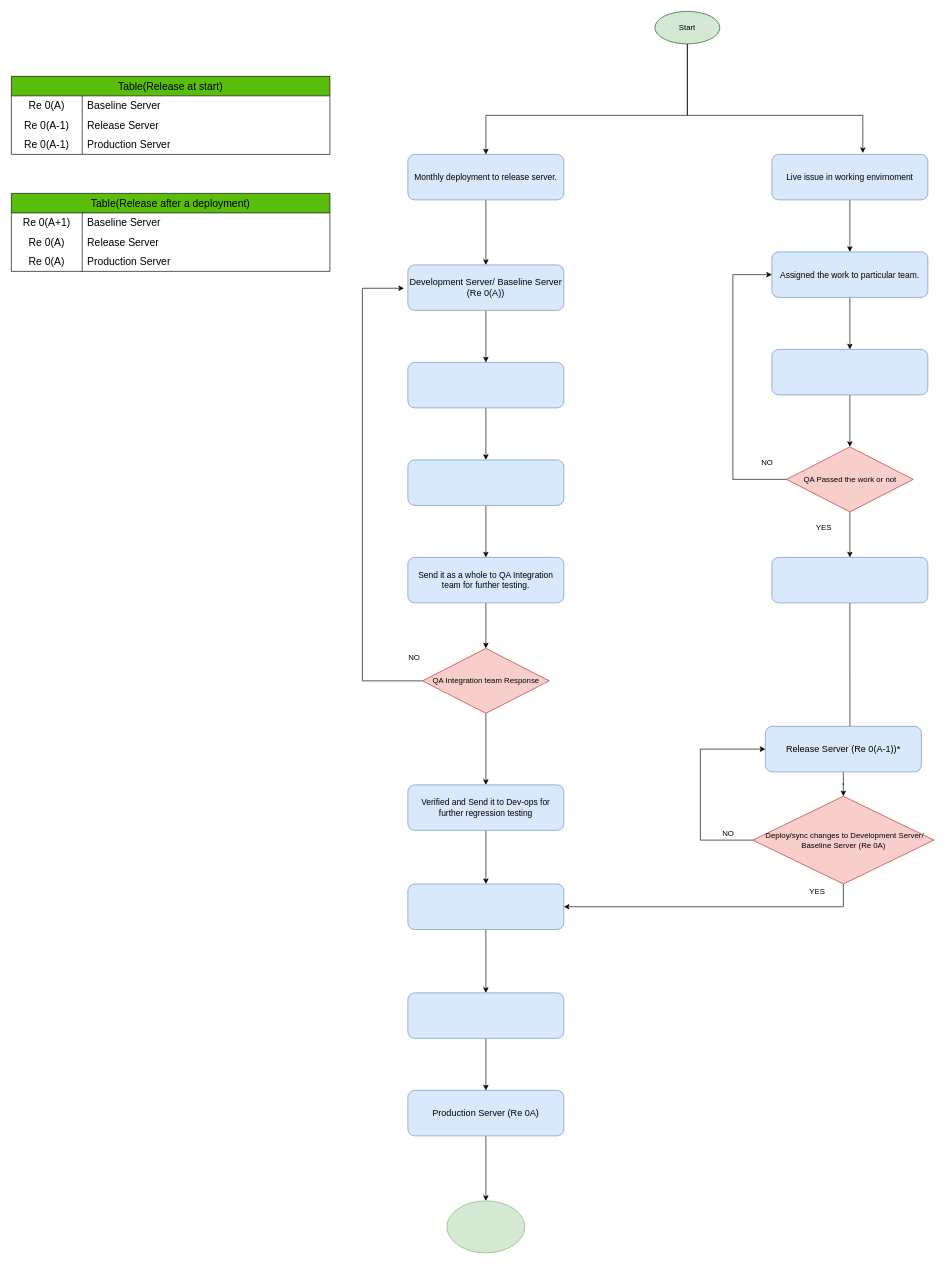
Image size: 946x1264. Some labels were removed from this diagram. The centre of each missing label's shape, as x and y in pixels:
Check and Sync all the lags in DB before deploying.: the point at 485,906
Dev-ops Team Reconfirmation and deployment: the point at 849,580
Each team take a branch to work, test and execute.: the point at 485,385
END: the point at 485,1226
Make a pull request and merge it to parent branch on Git.: the point at 485,482
Release Server (Re 0A): the point at 485,1015
Tested by QA within the team.: the point at 849,372
